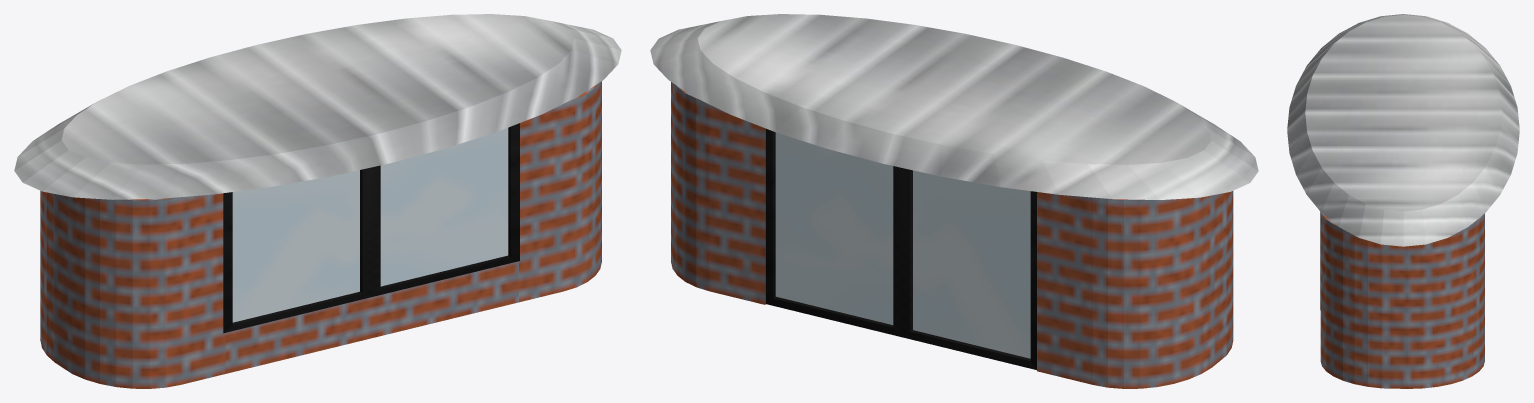
File: bebeteca.fbx
3 renders of one model, left to right at view 1: azimuth 30°, elevation 25°; view 2: azimuth 150°, elevation 25°; view 3: azimuth 270°, elevation 25°, orthographic. The views are drawn at different scales.
Visible parts, largest first — view 1: Circle.002, Circle, Parede frente.001; view 2: Circle.002, Circle, Parede frente.002; view 3: Circle.002, Circle.
Boxes of the visible parts, x1,y1,x2,y2 form: Circle.002: (14,14,621,199); Circle: (40,81,601,388); Parede frente.001: (223,123,519,333); Circle.002: (650,14,1258,199); Circle: (671,82,1233,388); Parede frente.002: (765,128,1036,369); Circle.002: (1287,14,1519,246); Circle: (1320,212,1484,388).
Bounding box in the file's own units: 29388 × 10078 × 12419.
